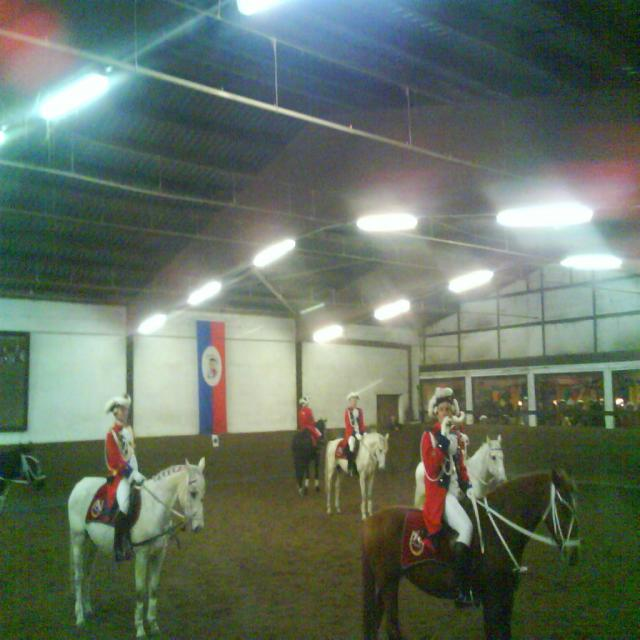Horse: (0, 432, 580, 640)
